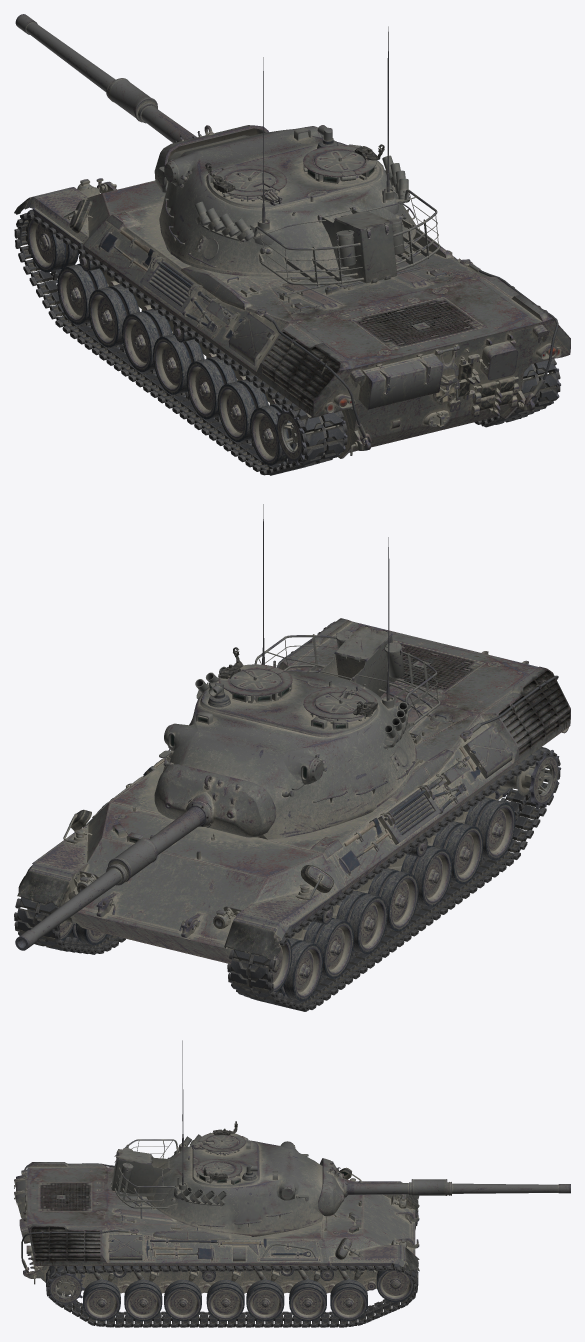
Rendered from leopard.fbx.
The picture shows the model from 3 angles, top to bottom: view 1: azimuth 30°, elevation 25°; view 2: azimuth 150°, elevation 25°; view 3: azimuth 270°, elevation 25°; orthographic projection. The views are drawn at different scales.
Visible parts, largest first — view 1: Hull, Turret_01, exportChassL1_Shape, segment2, gun_01_Shape, segment1, segment2.001; view 2: Hull, Turret_01, exportChassL1_Shape, gun_01_Shape, segment2, segment1, segment2.001, segment1.001, exportChassR1_Shape; view 3: Hull, Turret_01, exportChassR1_Shape, segment2.001, gun_01_Shape, segment1.001.
Part boxes in pixels (x1,y1,x2,y2): Hull: [14, 178, 570, 458]; Turret_01: [159, 26, 440, 285]; exportChassL1_Shape: [27, 218, 347, 465]; segment2: [17, 209, 344, 475]; gun_01_Shape: [15, 14, 268, 192]; segment1: [14, 213, 347, 475]; segment2.001: [481, 360, 557, 427]; Hull: [17, 618, 570, 963]; Turret_01: [159, 504, 440, 839]; exportChassL1_Shape: [240, 750, 561, 1001]; gun_01_Shape: [15, 764, 275, 950]; segment2: [230, 747, 550, 1011]; segment1: [227, 751, 560, 1010]; segment2.001: [17, 897, 119, 954]; segment1.001: [14, 898, 125, 953]; exportChassR1_Shape: [27, 902, 107, 945]; Hull: [14, 1162, 419, 1290]; Turret_01: [111, 1040, 323, 1236]; exportChassR1_Shape: [46, 1265, 413, 1321]; segment2.001: [46, 1263, 418, 1327]; gun_01_Shape: [318, 1158, 570, 1216]; segment1.001: [47, 1263, 417, 1327].
Size of the model in its own units: 331 by 433 by 955.
